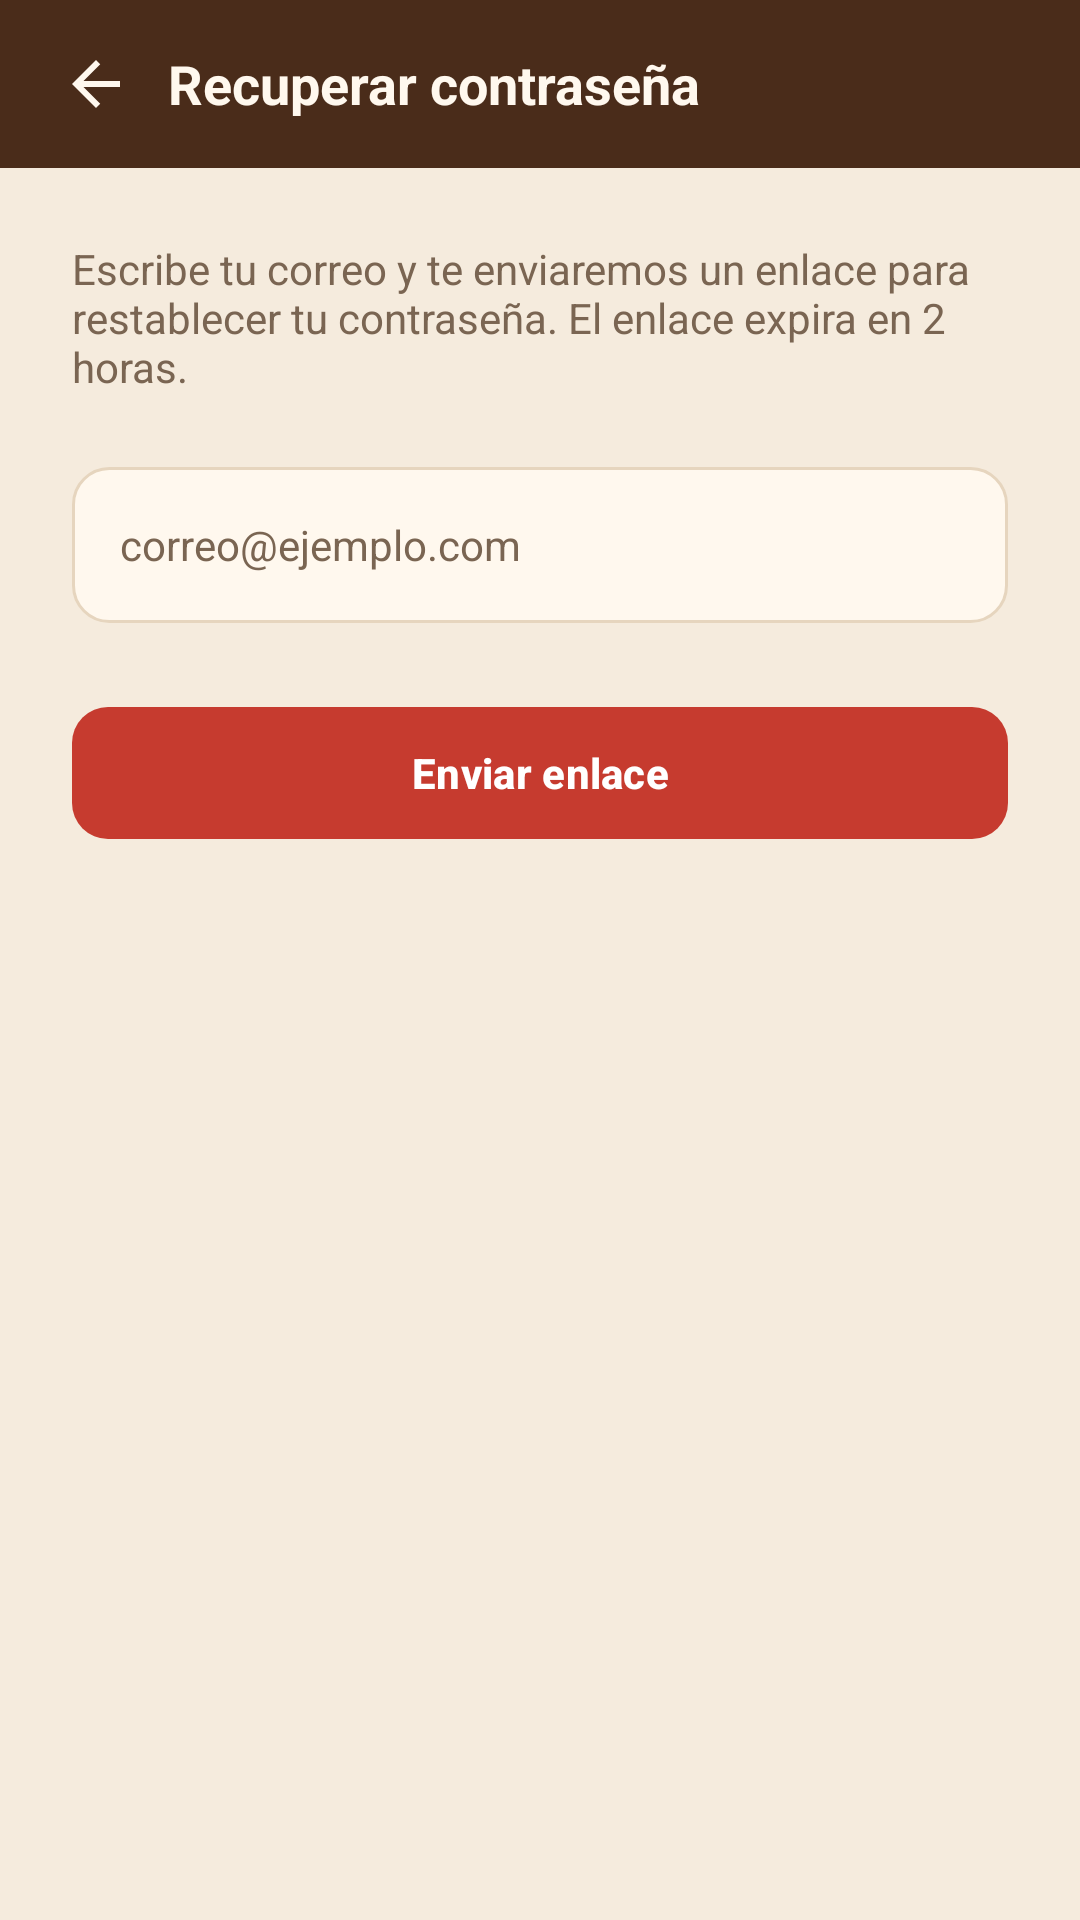

Named icons in this screenshot (1080px x 1920px) and their bounding boxes, detection(x1, y1, x2, y2):
Volver: detection(72, 60, 120, 108)
